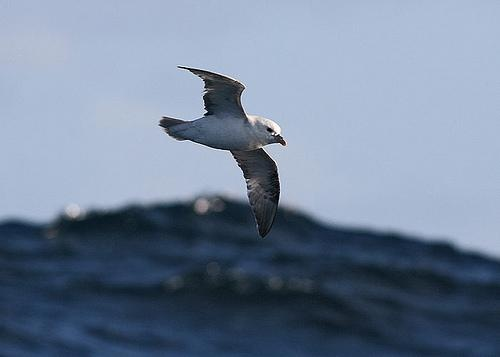bird: (149, 62, 293, 239)
